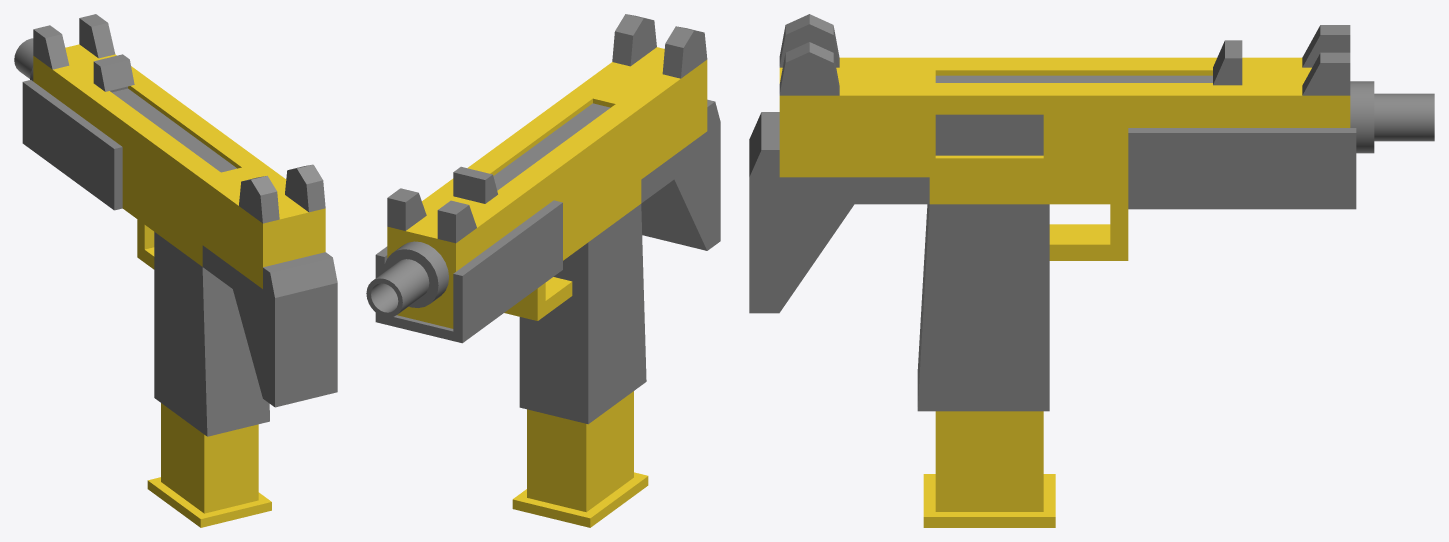
Rendered from uziLongGold.gltf.
3 views of the same model, side by side, from view 1: azimuth 30°, elevation 25°; view 2: azimuth 150°, elevation 25°; view 3: azimuth 270°, elevation 25° (orthographic). The views are drawn at different scales.
Visible parts, largest first — view 1: Group (×4); view 2: Group (×4); view 3: Group (×4).
Part boxes in pixels (x1,y1,x2,y2): Group (×4): [14, 14, 337, 527]; Group (×4): [366, 14, 720, 527]; Group (×4): [749, 14, 1434, 527].
Size of the model in its own units: 0.0727 by 0.333 by 0.4368.
